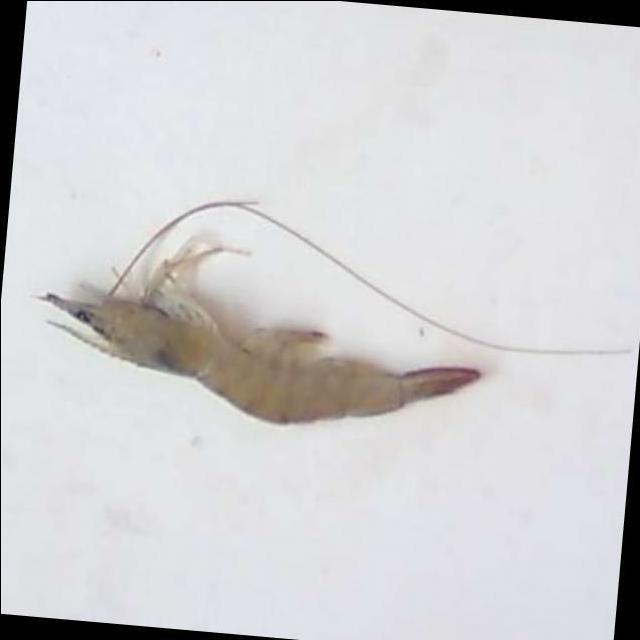shrimp: (38, 246, 481, 423)
